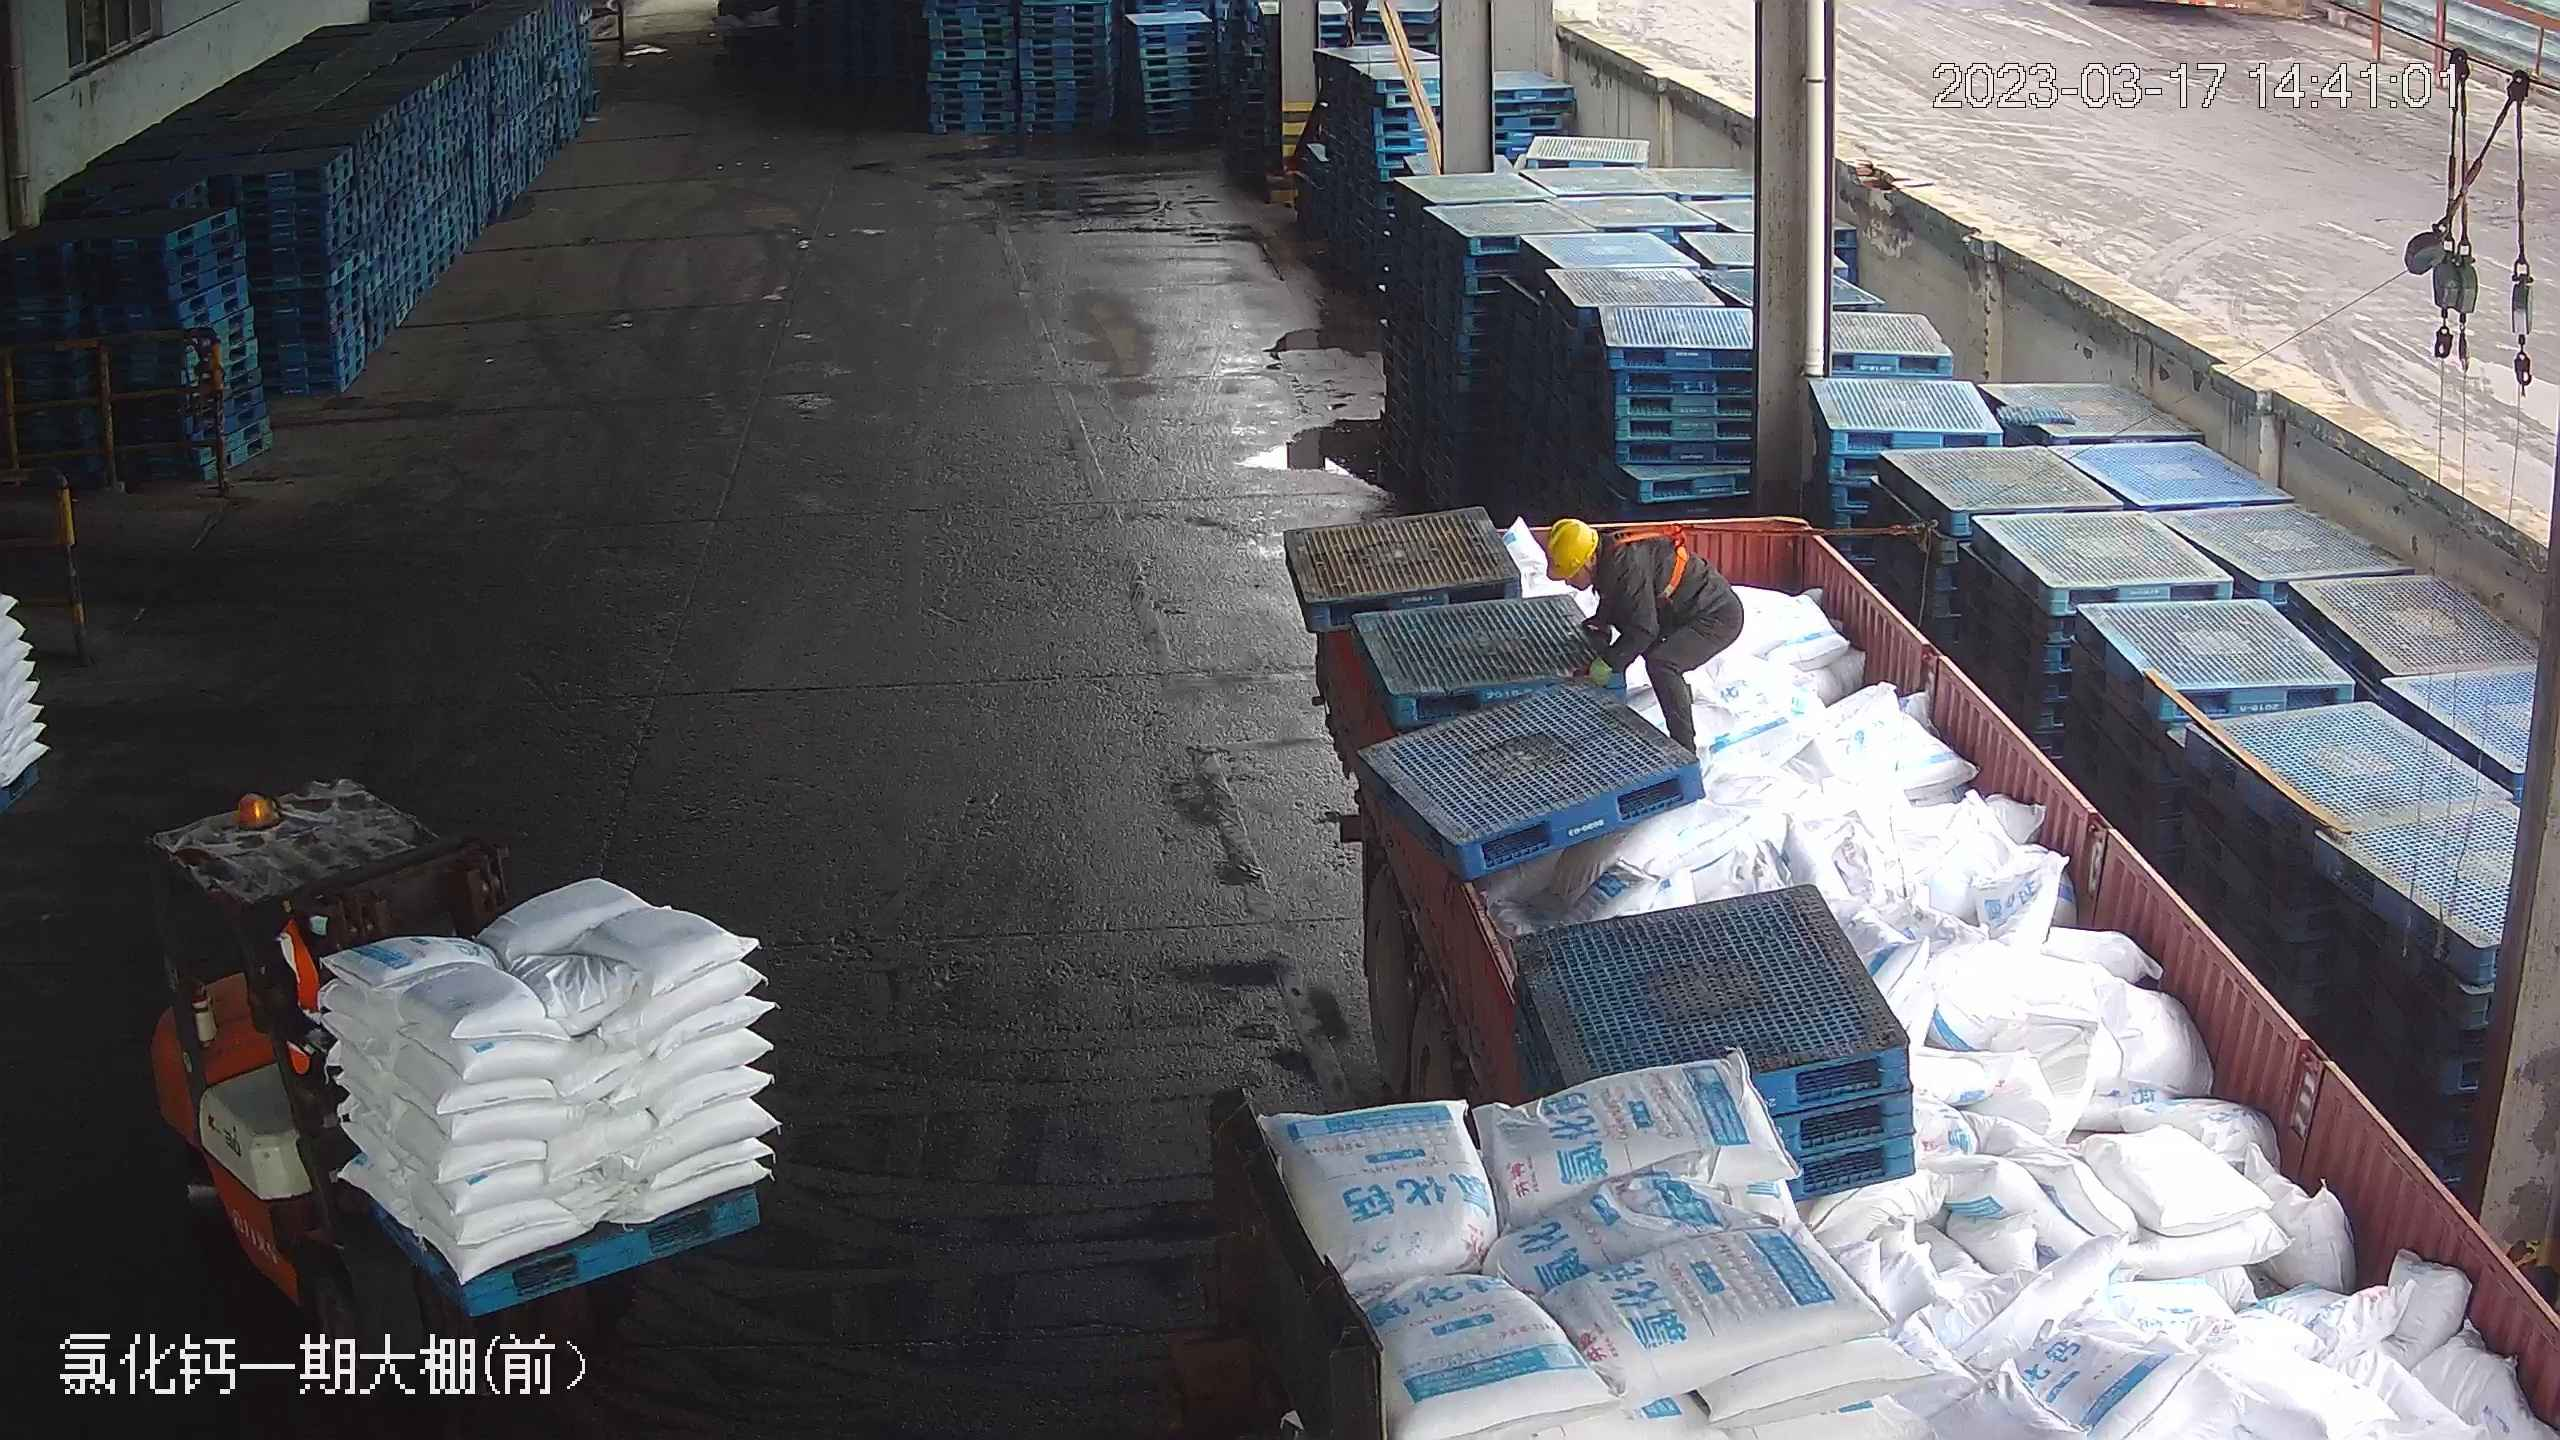belt: (1601, 520, 1700, 607)
head: (1537, 518, 1664, 610)
helmet: (1541, 515, 1596, 584)
people: (1539, 517, 1743, 771)
truck: (1283, 498, 2547, 1437)
